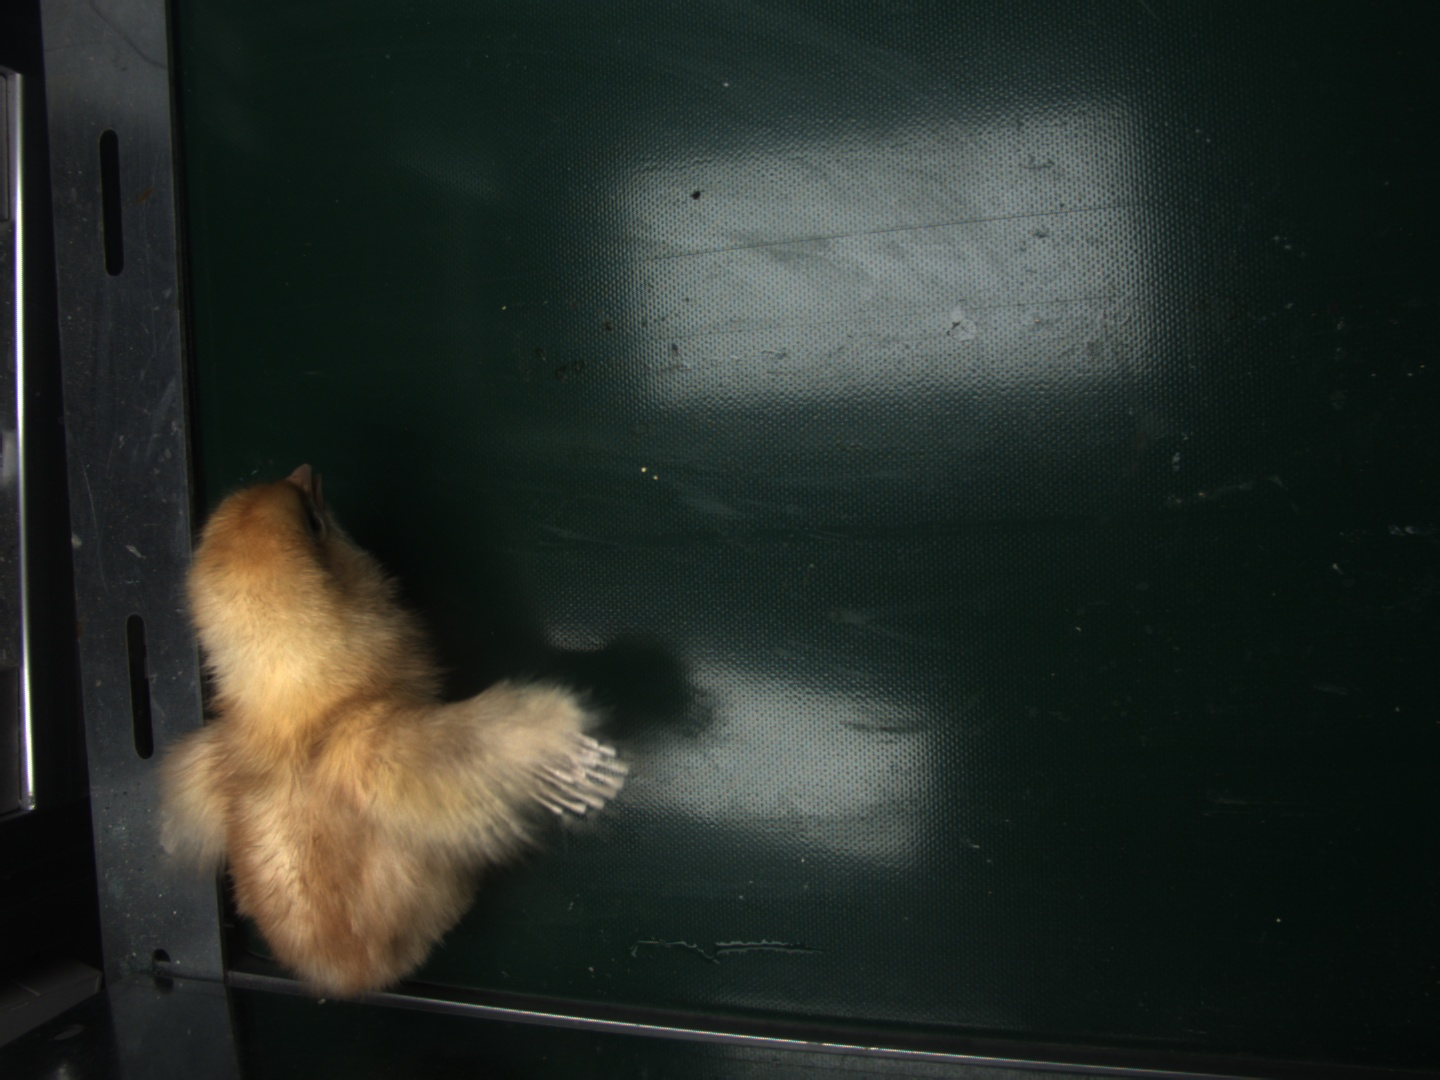female: (530, 736, 626, 815)
